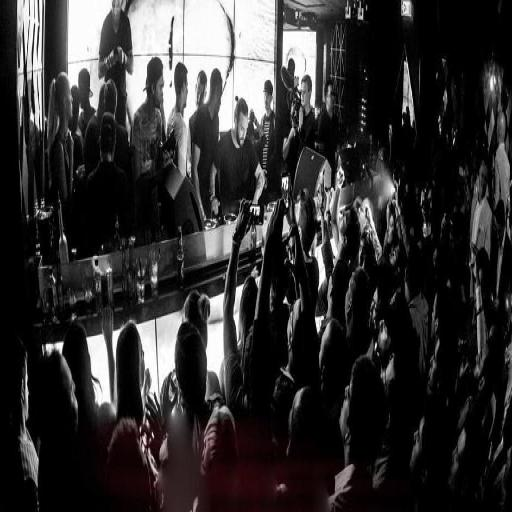person: (63, 322, 115, 510), (330, 356, 385, 511), (0, 336, 38, 511), (210, 99, 265, 215), (39, 351, 77, 511), (87, 112, 127, 253), (131, 58, 163, 230), (192, 68, 222, 217), (106, 418, 154, 511), (99, 0, 133, 126), (49, 72, 73, 230), (283, 75, 316, 177), (405, 246, 428, 382), (116, 322, 145, 426), (255, 80, 280, 193), (167, 63, 191, 177), (470, 160, 491, 275), (318, 79, 339, 186), (84, 83, 107, 177), (491, 199, 511, 301), (494, 111, 510, 213), (189, 70, 207, 150), (78, 68, 95, 142), (69, 86, 83, 173)
